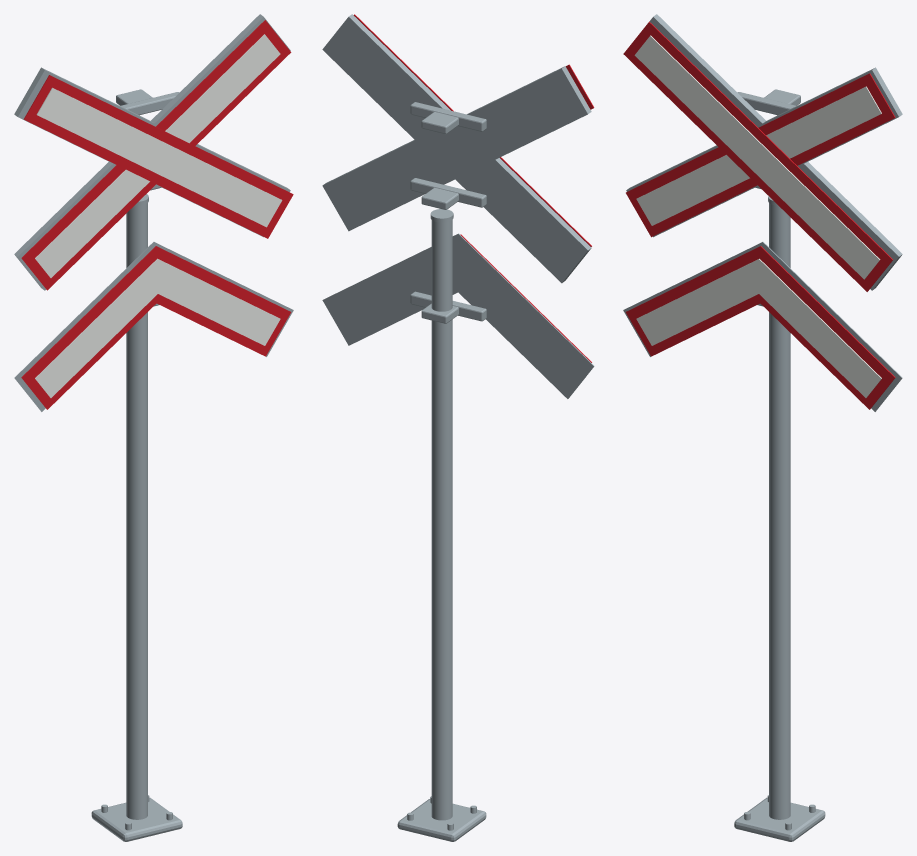
The model's file is DS_Sign_MultiTrack.fbx.
The picture shows the model from 3 angles, left to right: view 1: azimuth 30°, elevation 25°; view 2: azimuth 150°, elevation 25°; view 3: azimuth 330°, elevation 25°; orthographic projection. The views are drawn at different scales.
Visible parts, largest first — view 1: Post.003, Face_Field_V, Face_Field_1.001, Face_Field_0.001, Face_Border_1.001, Face_Border_V, Face_Border_0.001, Plate_Back.004, BasePlate.003, Plate_Back.006, Plate_Back.005, RearRail.007; view 2: Plate_Back.004, Plate_Back.006, Post.003, Plate_Back.005, BasePlate.003, RearRail.006, RearRail.007, RearRail.008, PostClamp.006, PostClamp.007, Face_Border_0.001; view 3: Post.003, Face_Field_1.001, Face_Field_V, Face_Field_0.001, Face_Border_V, Face_Border_1.001, Face_Border_0.001, Plate_Back.005, BasePlate.003, Plate_Back.006, Plate_Back.004, RearRail.007.
Boxes of the visible parts, x1,y1,x2,y2 form: Post.003: [126, 203, 147, 819]; Face_Field_V: [35, 258, 280, 397]; Face_Field_1.001: [36, 87, 282, 227]; Face_Field_0.001: [35, 34, 280, 277]; Face_Border_1.001: [23, 75, 293, 238]; Face_Border_V: [21, 246, 291, 409]; Face_Border_0.001: [21, 20, 291, 290]; Plate_Back.004: [14, 14, 290, 290]; BasePlate.003: [91, 797, 182, 841]; Plate_Back.006: [14, 242, 293, 411]; Plate_Back.005: [14, 67, 290, 237]; RearRail.007: [120, 92, 179, 115]; Plate_Back.004: [322, 14, 591, 283]; Plate_Back.006: [322, 233, 594, 398]; Post.003: [431, 220, 452, 820]; Plate_Back.005: [322, 66, 591, 231]; BasePlate.003: [397, 799, 486, 841]; RearRail.006: [410, 178, 486, 207]; RearRail.007: [410, 102, 486, 131]; RearRail.008: [410, 291, 486, 321]; PostClamp.006: [421, 187, 458, 209]; PostClamp.007: [421, 112, 458, 134]; Face_Border_0.001: [353, 14, 591, 246]; Post.003: [769, 203, 790, 819]; Face_Field_1.001: [634, 35, 880, 279]; Face_Field_V: [636, 258, 881, 397]; Face_Field_0.001: [636, 86, 881, 225]; Face_Border_V: [625, 246, 895, 409]; Face_Border_1.001: [623, 21, 892, 291]; Face_Border_0.001: [626, 73, 895, 237]; Plate_Back.005: [649, 14, 902, 290]; BasePlate.003: [734, 797, 825, 841]; Plate_Back.006: [623, 242, 902, 411]; Plate_Back.004: [626, 67, 902, 237]; RearRail.007: [737, 92, 796, 115].
Size of the model in its own units: 112 by 305 by 27.8.
